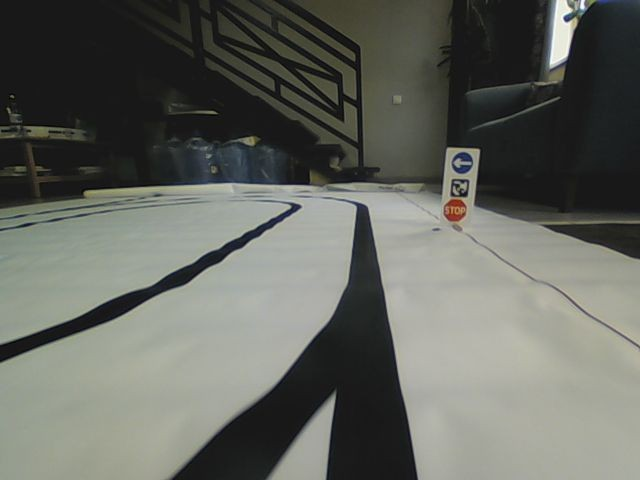Stop: (442, 199, 469, 221)
